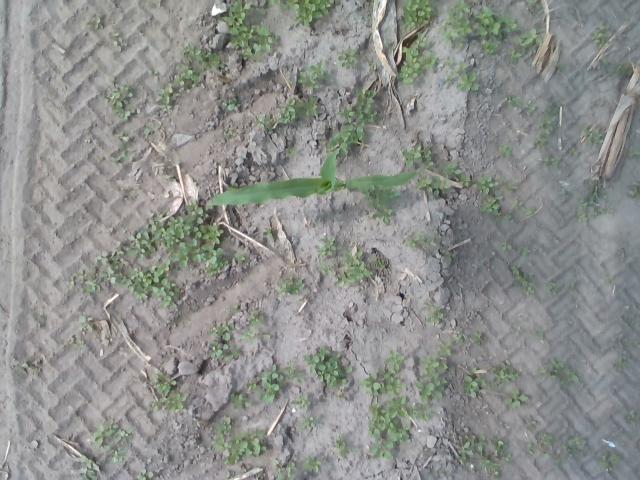Maize: (212, 148, 416, 206)
Weeds: (70, 200, 248, 312), (220, 0, 278, 61), (229, 360, 301, 409), (328, 88, 377, 153), (363, 396, 412, 460), (210, 414, 268, 465), (410, 340, 452, 400), (456, 434, 512, 478), (156, 64, 207, 112), (359, 348, 408, 396), (472, 4, 518, 55), (300, 344, 352, 388), (88, 418, 134, 464), (398, 32, 437, 84), (270, 0, 334, 28), (574, 180, 614, 223), (438, 0, 471, 52), (274, 94, 320, 128), (534, 357, 580, 391), (148, 372, 187, 412), (207, 322, 243, 365), (335, 248, 373, 288), (104, 76, 136, 122), (532, 99, 562, 148), (444, 54, 480, 91), (366, 188, 402, 224), (510, 25, 543, 61), (184, 41, 228, 68), (399, 0, 437, 30), (244, 308, 272, 348), (298, 58, 332, 88), (442, 162, 473, 188), (272, 277, 306, 300), (511, 265, 535, 296), (401, 146, 436, 167), (492, 360, 518, 388), (420, 174, 451, 197), (462, 366, 484, 398), (478, 192, 506, 217), (312, 235, 340, 260), (404, 232, 442, 250), (332, 434, 359, 459), (110, 145, 136, 170), (273, 457, 299, 480), (336, 45, 359, 70), (562, 436, 588, 458), (579, 124, 602, 147), (599, 450, 622, 473), (408, 402, 437, 420), (424, 298, 444, 324), (79, 455, 99, 480), (107, 30, 127, 54), (12, 359, 42, 375), (592, 19, 608, 48), (474, 175, 498, 194), (290, 390, 312, 410), (505, 389, 528, 407), (302, 454, 322, 474), (76, 310, 94, 331), (255, 112, 274, 130), (524, 0, 544, 17), (86, 13, 106, 30), (296, 416, 316, 433), (536, 430, 554, 448), (504, 94, 524, 110), (68, 335, 84, 354), (539, 155, 562, 167), (470, 330, 486, 347), (524, 414, 538, 433), (627, 136, 640, 156), (318, 261, 335, 276), (612, 360, 630, 374), (262, 226, 276, 244), (36, 306, 48, 327), (222, 97, 238, 112), (134, 468, 154, 480), (627, 180, 640, 198), (496, 144, 512, 158), (544, 452, 562, 464), (524, 104, 540, 117), (625, 410, 638, 425), (522, 442, 534, 458), (146, 68, 159, 82), (371, 257, 386, 269), (225, 302, 240, 314), (367, 56, 378, 72), (532, 328, 545, 341), (600, 57, 612, 71), (616, 60, 628, 74), (223, 126, 237, 138), (118, 133, 134, 143), (283, 148, 299, 158), (337, 390, 348, 404), (588, 99, 606, 107), (513, 198, 525, 210), (522, 246, 534, 258), (442, 250, 455, 261), (142, 127, 154, 138), (568, 147, 581, 157), (452, 333, 465, 343), (500, 242, 512, 252), (603, 273, 614, 283), (150, 0, 162, 9), (565, 280, 577, 289), (556, 61, 566, 71), (546, 280, 556, 290), (618, 248, 626, 260), (508, 184, 518, 193), (526, 207, 536, 216), (226, 470, 235, 480), (96, 155, 105, 164), (560, 188, 567, 198), (629, 320, 637, 328), (503, 214, 512, 220), (90, 145, 96, 153), (84, 136, 90, 143)
